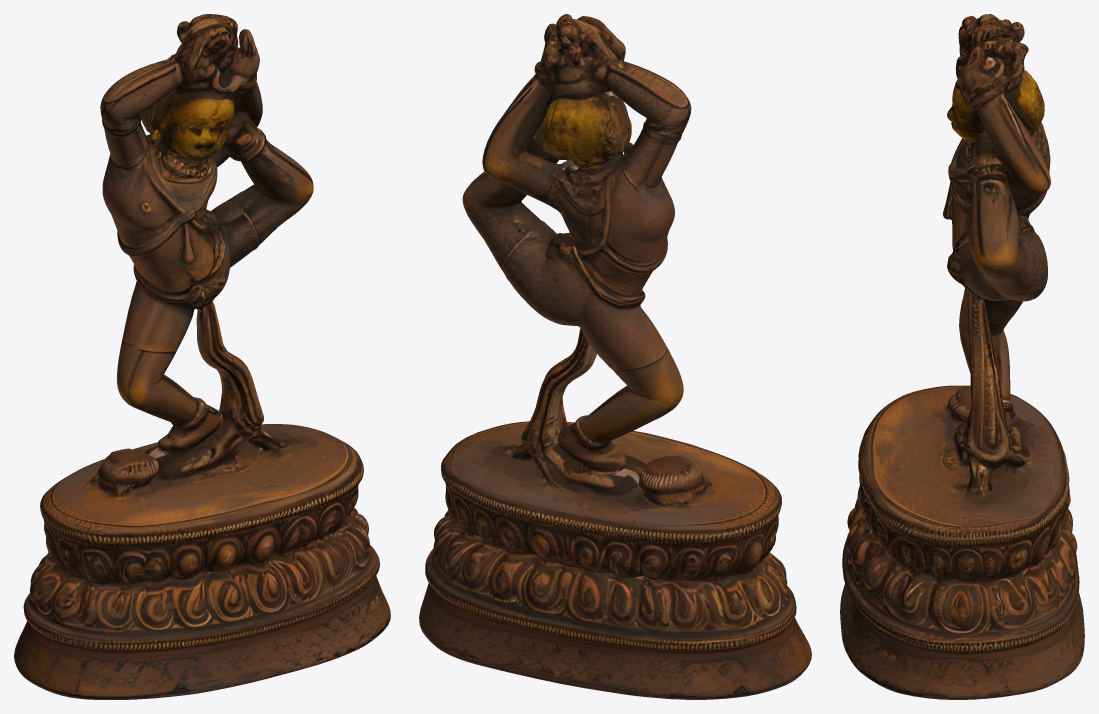
3 renders of one model, left to right at view 1: azimuth 30°, elevation 25°; view 2: azimuth 150°, elevation 25°; view 3: azimuth 270°, elevation 25°, orthographic. The views are drawn at different scales.
Visible parts, largest first — view 1: textured_mesh; view 2: textured_mesh; view 3: textured_mesh.
Boxes of the visible parts, <box> form: textured_mesh: <box>14,14,390,699</box>; textured_mesh: <box>419,14,811,699</box>; textured_mesh: <box>840,14,1084,699</box>.
Bounding box in the file's own units: 1.2 × 1.99 × 0.7228.
Materials: 1 (1 with a texture image).
